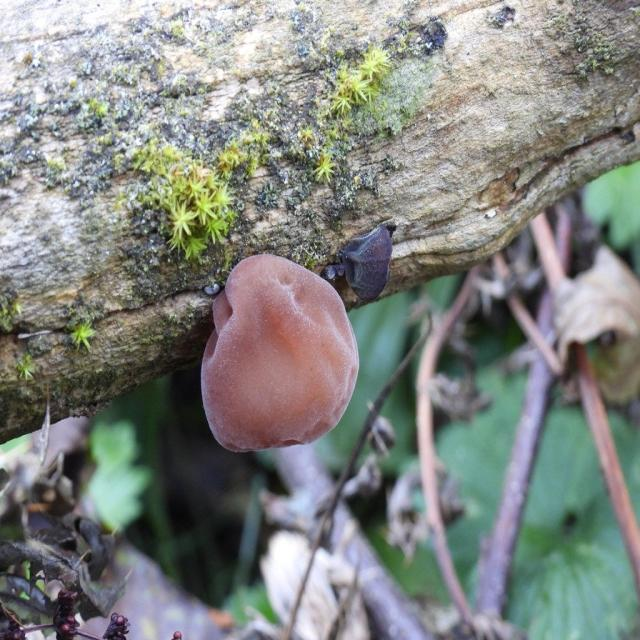Matang: (195, 251, 360, 450)
